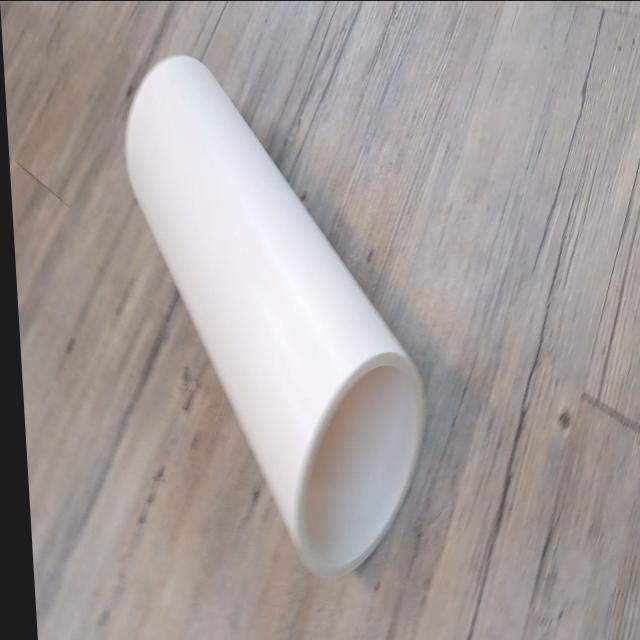CORAL: (111, 44, 441, 580)
